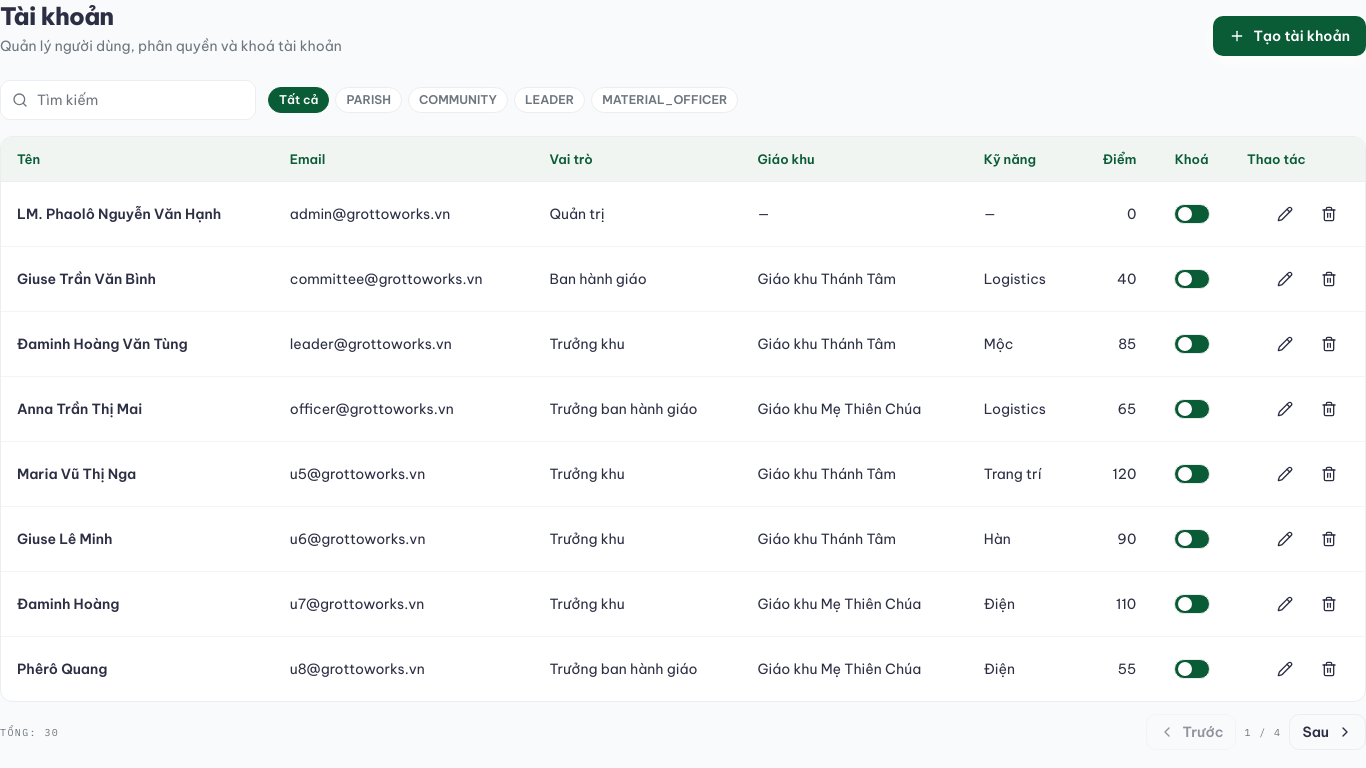
Test: hiện user seed và dialog tạo tài khoản validate email
This screenshot has width=1366, height=768.
Expected: the text "LM. Phaolô Nguyễn Văn Hạnh" is shown, [17,205,221,223]
Expected: the text "Giuse Trần Văn Bình" is shown, [17,270,156,288]
// Mở dialog tạo → submit rỗng → lỗi zod name + email.
Click the button "Tạo tài khoản". click: (1290, 36)
box: [1213,16,1365,56]
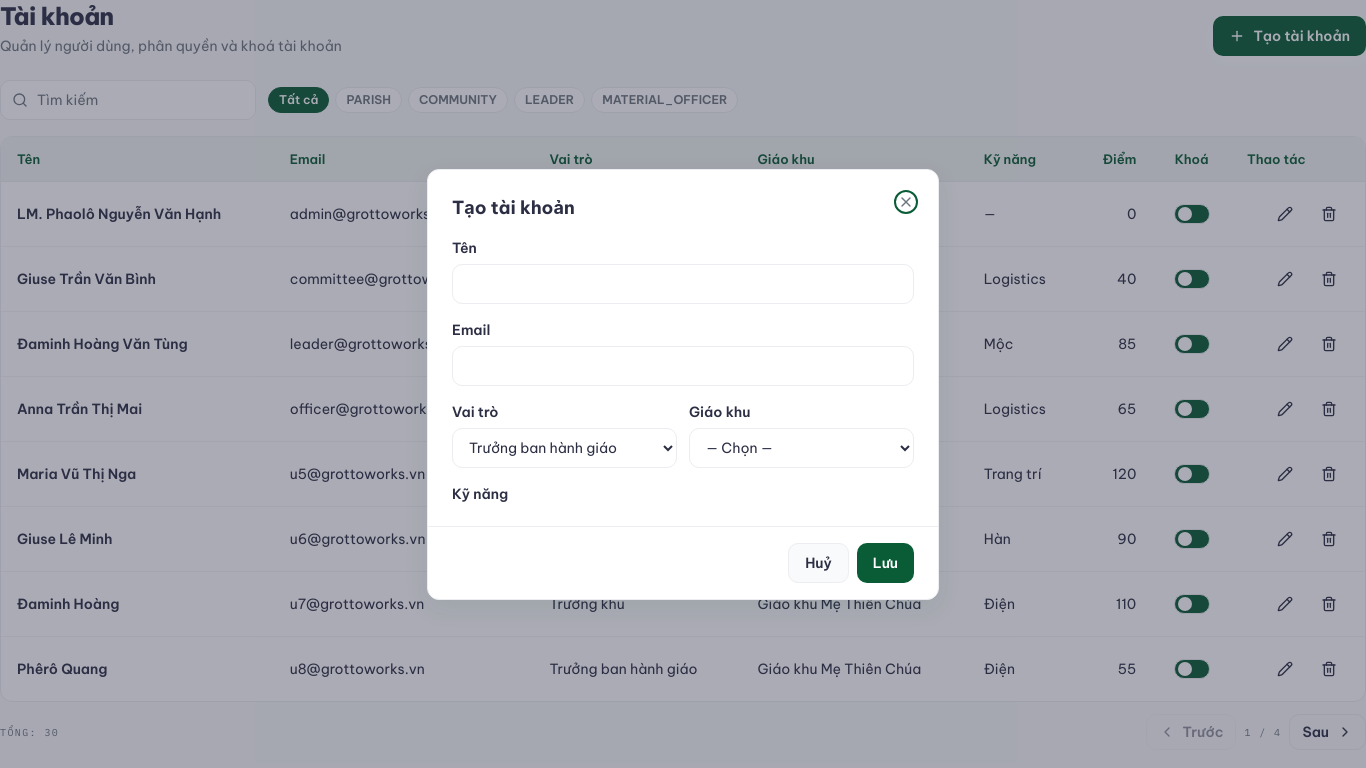
Submit the form with id "account-form", box [452,238,914,510]
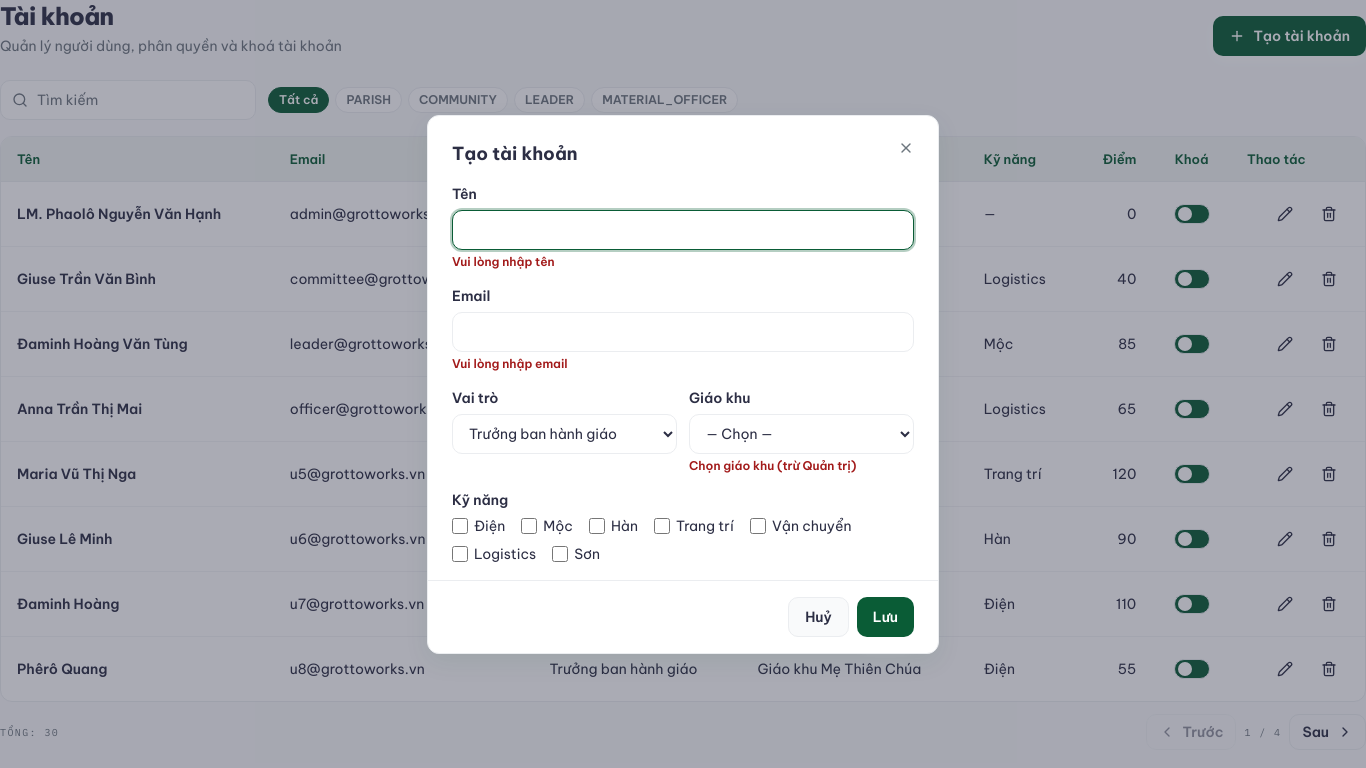
Now the text "Vui lòng nhập tên" is shown, box [452,254,555,268]
Now the text "Vui lòng nhập email" is shown, box [452,356,568,370]
